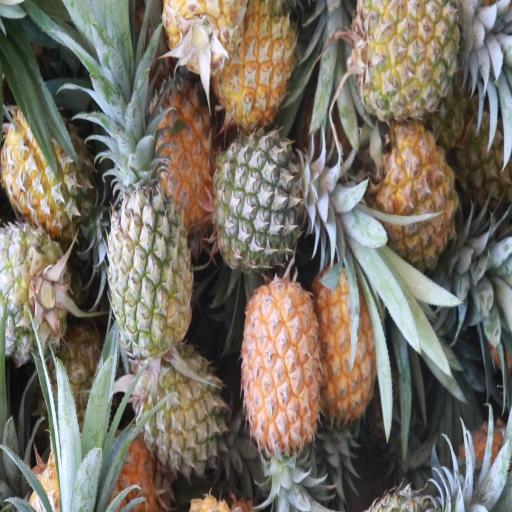------------------------------: (106, 153, 191, 350), (358, 0, 458, 116), (2, 106, 89, 235), (138, 347, 224, 474)
Pineapple - v8 v1: (245, 281, 323, 454), (318, 260, 388, 421), (376, 124, 456, 261), (218, 0, 300, 119), (154, 80, 220, 222)
